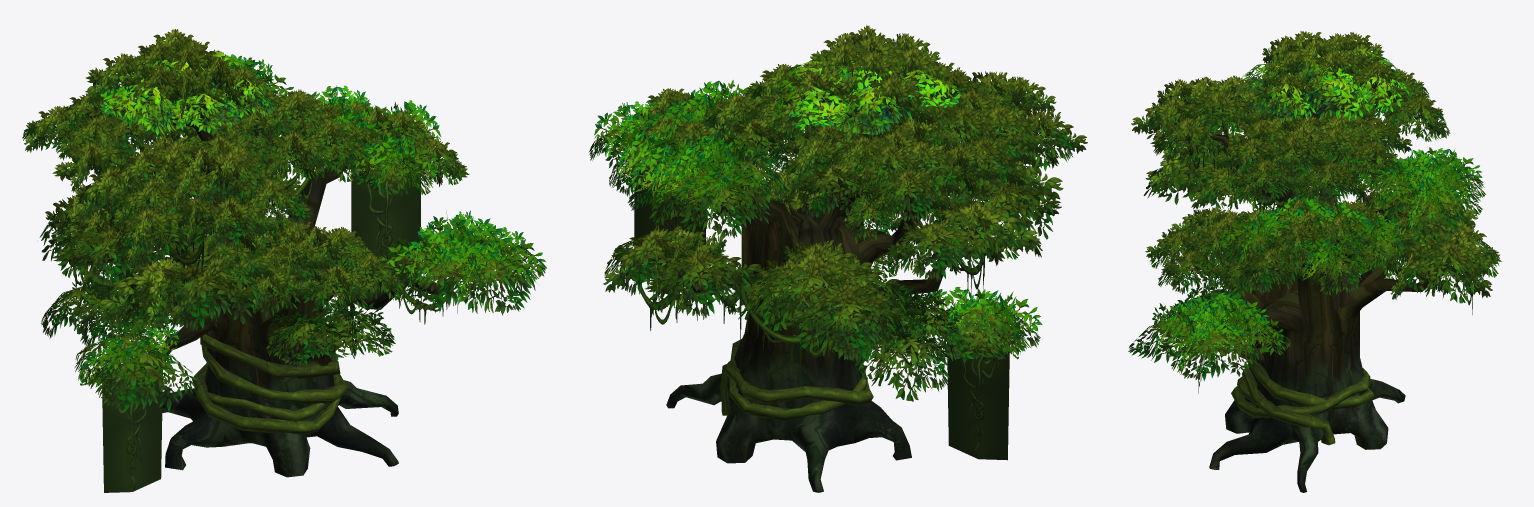
File: shu.FBX
3 renders of one model, left to right at view 1: azimuth 30°, elevation 25°; view 2: azimuth 150°, elevation 25°; view 3: azimuth 270°, elevation 25°, orthographic. The views are drawn at different scales.
Visible parts, largest first — view 1: 树叶3_04, 树叶3_01, 树叶3_03, 树叶3_05, 树叶3_06, 树叶3_07, 树叶3_02; view 2: 树叶3_04, 树叶3_01, 树叶3_05, 树叶3_03, 树叶3_06, 树叶3_07, 树叶3_02; view 3: 树叶3_04, 树叶3_01, 树叶3_03, 树叶3_05, 树叶3_07, 树叶3_02.
Boxes of the visible parts, x1,y1,x2,y2 form: 树叶3_04: [24, 29, 469, 328]; 树叶3_01: [22, 93, 545, 411]; 树叶3_03: [78, 48, 546, 402]; 树叶3_05: [83, 88, 456, 477]; 树叶3_06: [101, 142, 420, 492]; 树叶3_07: [192, 334, 346, 434]; 树叶3_02: [70, 161, 533, 324]; 树叶3_04: [603, 25, 1087, 357]; 树叶3_01: [589, 72, 1073, 401]; 树叶3_05: [649, 104, 994, 492]; 树叶3_03: [594, 52, 1042, 359]; 树叶3_06: [634, 124, 1009, 460]; 树叶3_07: [720, 328, 873, 421]; 树叶3_02: [635, 115, 1018, 366]; 树叶3_04: [1131, 31, 1501, 299]; 树叶3_01: [1128, 79, 1499, 380]; 树叶3_03: [1152, 48, 1482, 370]; 树叶3_05: [1195, 93, 1447, 492]; 树叶3_07: [1231, 359, 1374, 445]; 树叶3_02: [1174, 115, 1476, 393].
Bounding box in the file's own units: 608 × 559 × 539.
